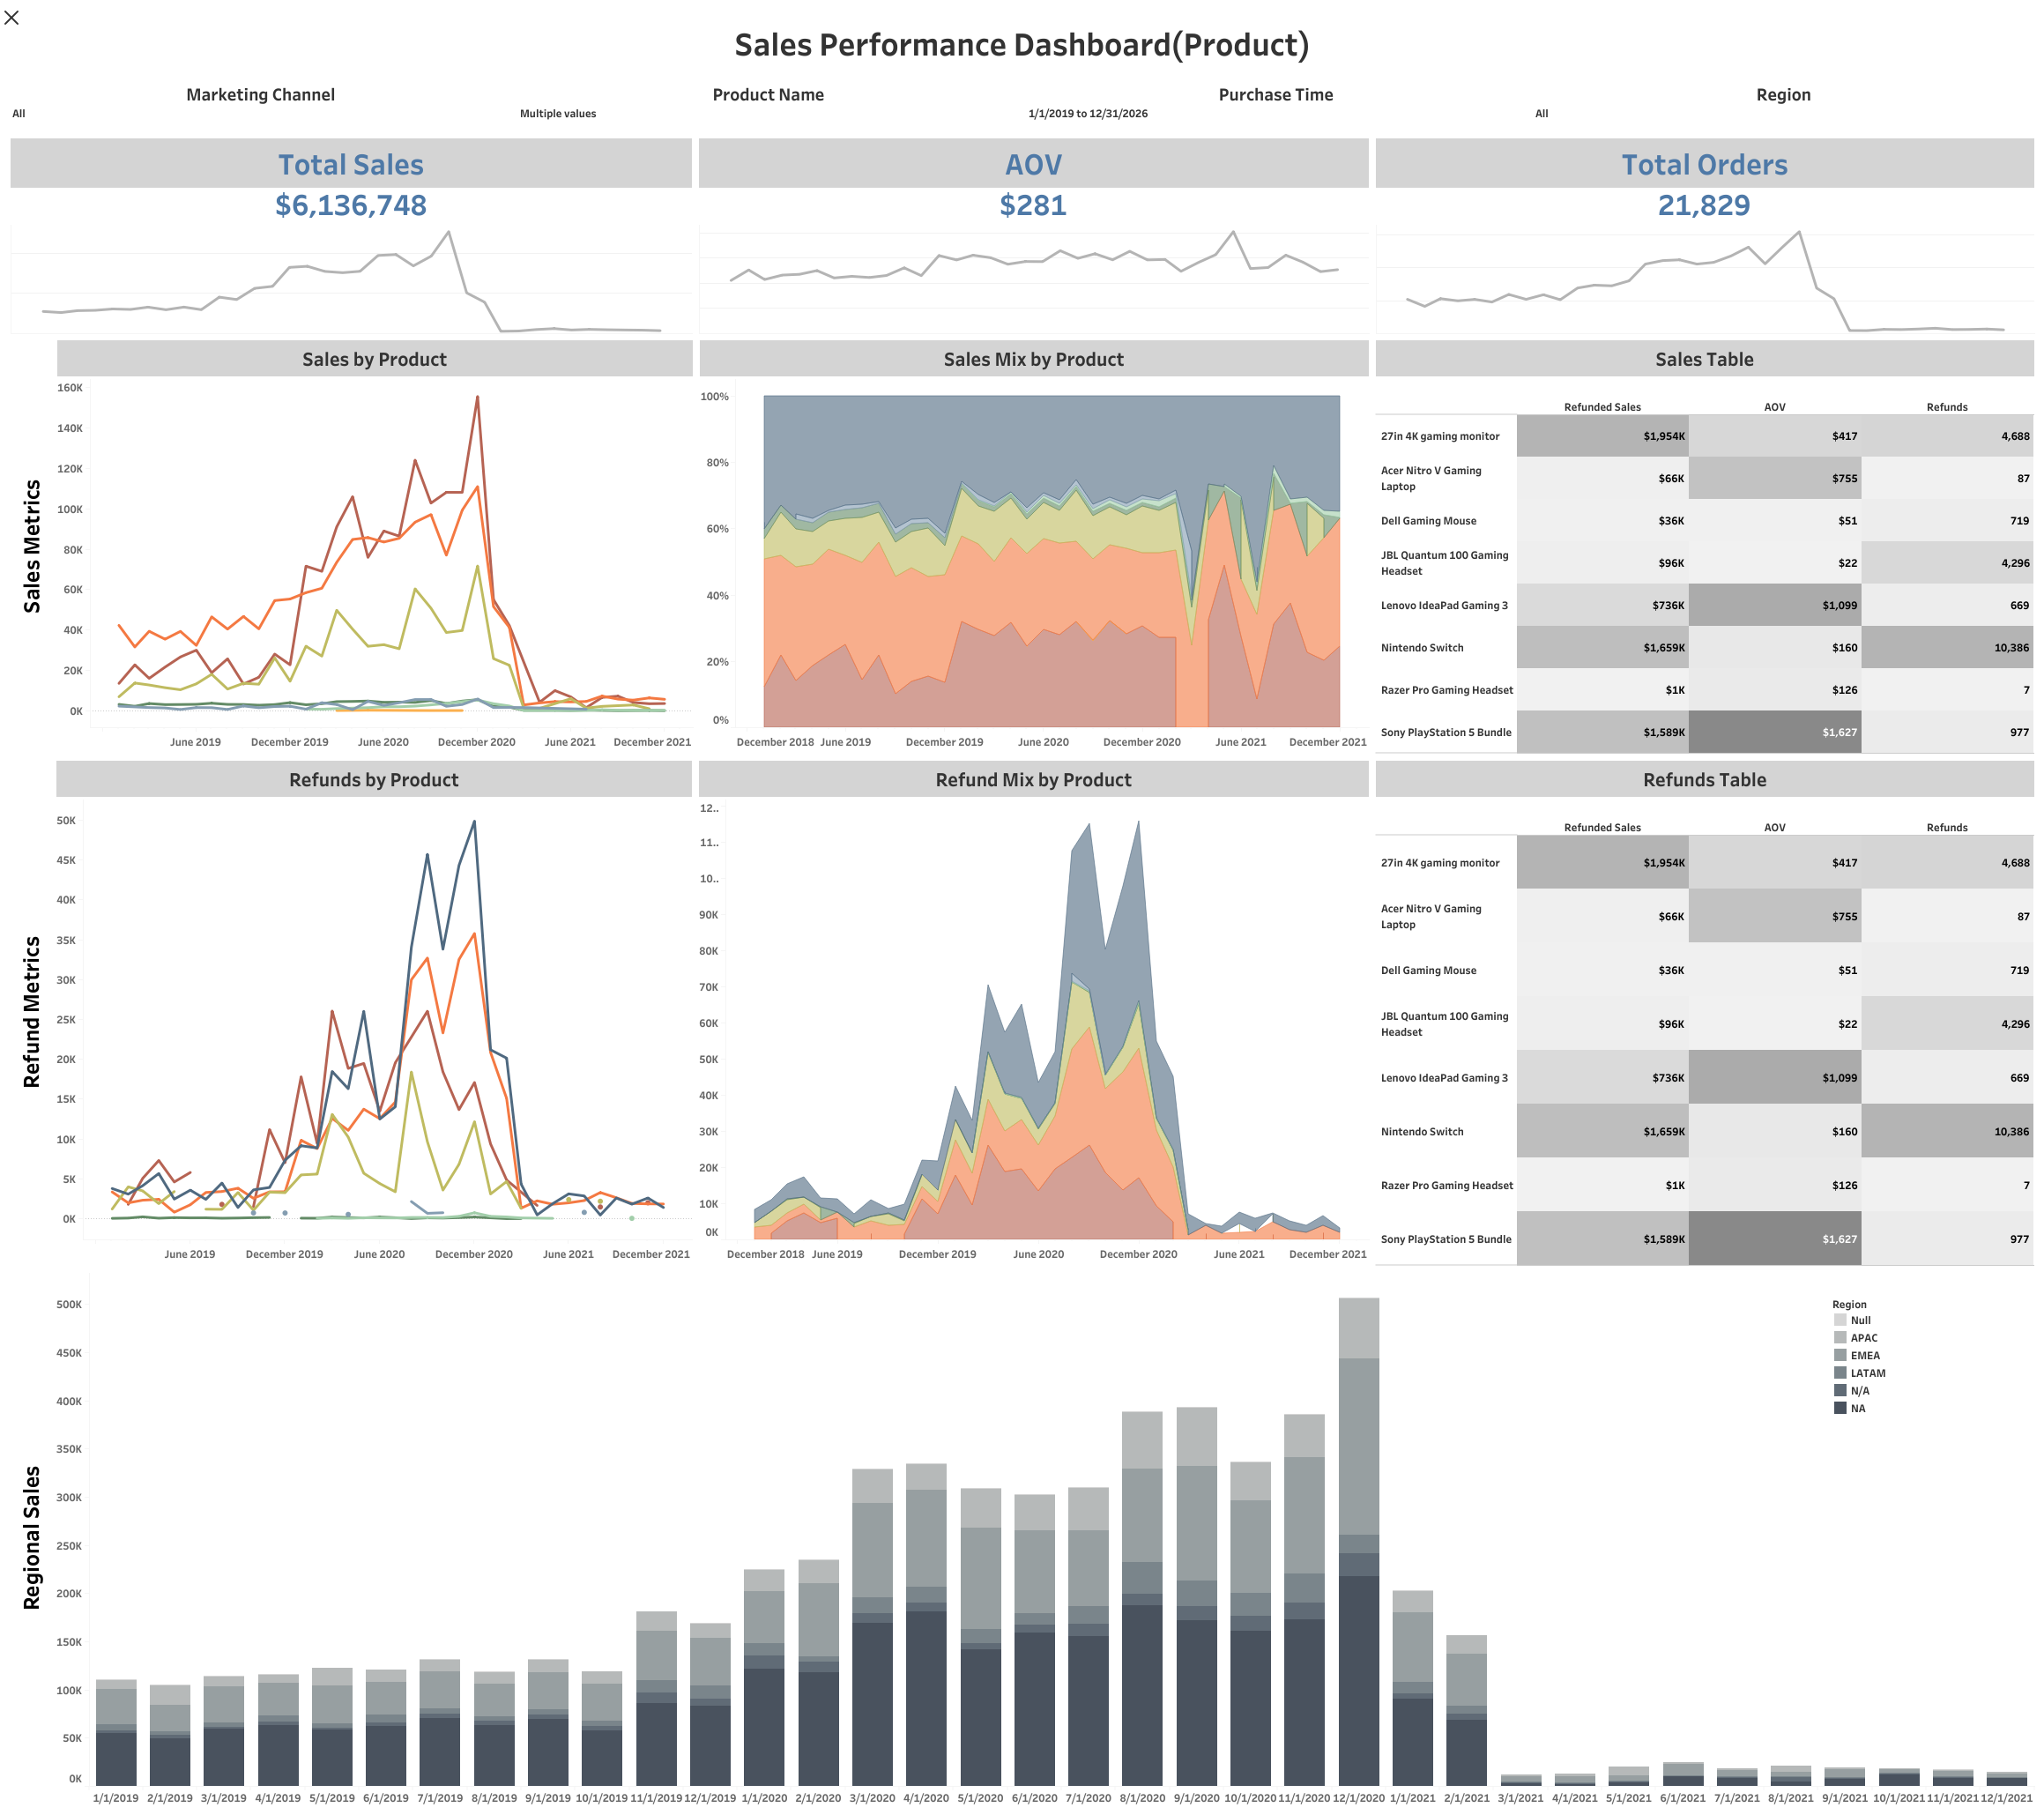

What the dashboard file says about the page in this screenshot:
{"tool":"tableau","page":{"name":"Dashboard 1","canvas":[1000,1000],"units":"permille","ordinal":0},"visuals":[{"type":"dashboard-object","box":[0.4,3.9,10.3,11.7]},{"type":"title","box":[3.4,3.9,993.2,38.8]},{"type":"filter","title":"Sales by Product","param":"[federated.131qbsd0yto8ju104g98j1mwnfte].[none:MARKETING_CHANNEL_CLEANED:nk]","box":[3.4,42.7,248.5,31.6]},{"type":"filter","title":"Sales by Product","param":"[federated.131qbsd0yto8ju104g98j1mwnfte].[none:PRODUCT_NAME_CLEANED:nk]","box":[251.9,42.7,248.5,31.6]},{"type":"filter","title":"Sales by Product","param":"[federated.131qbsd0yto8ju104g98j1mwnfte].[none:PURCHASE_TS_CLEANED:qk]","box":[500.4,42.7,248.1,31.6]},{"type":"filter","title":"Sales by Product","param":"[federated.131qbsd0yto8ju104g98j1mwnfte].[none:REGION:nk]","box":[748.5,42.7,248.1,31.6]},{"type":"worksheet","title":"Total Sales","mark":"Automatic","box":[3.4,74.3,336.8,47.6]},{"type":"worksheet","title":"AOV","mark":"Automatic","box":[340.2,74.3,330.9,47.6]},{"type":"worksheet","title":"Total Orders","mark":"Automatic","box":[671.2,74.3,325.4,47.6]},{"type":"worksheet","title":"Sales line","mark":"Automatic","rows":["USD_PRICE"],"cols":["PURCHASE_TS_CLEANED"],"box":[3.4,121.8,336.8,63.4]},{"type":"worksheet","title":"AOV line","mark":"Automatic","rows":["USD_PRICE"],"cols":["PURCHASE_TS_CLEANED"],"box":[340.2,121.8,330.9,63.4]},{"type":"worksheet","title":"Total Orders line","mark":"Automatic","rows":["orders!cleaned_5B5E275D6DFD4A4D8425866502C4DDB2"],"cols":["PURCHASE_TS_CLEANED"],"box":[671.2,121.8,325.4,63.4]},{"type":"text","box":[3.4,185.2,22.7,231.5]},{"type":"worksheet","title":"Sales by Product","mark":"Automatic","rows":["USD_PRICE"],"cols":["PURCHASE_TS"],"box":[26.1,185.2,314.3,231.5]},{"type":"worksheet","title":"Sales Mix by Product","mark":"Area","cols":["PURCHASE_TS"],"box":[340.4,185.2,330.8,231.5]},{"type":"worksheet","title":"Sales Table","mark":"Square","rows":["PRODUCT_NAME_CLEANED"],"box":[671.2,185.2,325.4,231.5]},{"type":"text","box":[3.4,416.8,22.6,282.5]},{"type":"worksheet","title":"Refunds by Product","mark":"Automatic","rows":["REFUND_PRICE"],"cols":["PURCHASE_TS"],"box":[26,416.8,314.2,282.5]},{"type":"worksheet","title":"Refund Mix by Product","mark":"Area","rows":["REFUND_PRICE"],"cols":["PURCHASE_TS"],"box":[340.2,416.8,330.9,282.5]},{"type":"worksheet","title":"Refunds Table","mark":"Square","rows":["PRODUCT_NAME_CLEANED"],"box":[671.2,416.8,325.4,282.5]},{"type":"text","box":[3.4,699.2,22.6,296.9]},{"type":"worksheet","title":"Sheet 18","mark":"Bar","rows":["USD_PRICE"],"cols":["PURCHASE_TS_CLEANED"],"box":[26,699.2,970.6,296.9]},{"type":"legend","title":"Sheet 18","param":"[federated.131qbsd0yto8ju104g98j1mwnfte].[none:REGION:nk]","box":[895.8,712.6,60,67]}]}

Visuals, with their boxes on the dashboard's canvas, which has no fixed pixel size, in thousandths of its width and height (x1, y1, x2, y2). These are canvas units, not pixel positions in the 2044x1815 screenshot, which may show the page scaled, cropped or inside an application window:
dashboard-object: detection(0, 4, 11, 16)
title: detection(3, 4, 997, 43)
"Sales by Product" filter: detection(3, 43, 252, 74)
"Sales by Product" filter: detection(252, 43, 500, 74)
"Sales by Product" filter: detection(500, 43, 748, 74)
"Sales by Product" filter: detection(748, 43, 997, 74)
"Total Sales" worksheet: detection(3, 74, 340, 122)
"AOV" worksheet: detection(340, 74, 671, 122)
"Total Orders" worksheet: detection(671, 74, 997, 122)
"Sales line" worksheet: detection(3, 122, 340, 185)
"AOV line" worksheet: detection(340, 122, 671, 185)
"Total Orders line" worksheet: detection(671, 122, 997, 185)
text: detection(3, 185, 26, 417)
"Sales by Product" worksheet: detection(26, 185, 340, 417)
"Sales Mix by Product" worksheet (Area marks): detection(340, 185, 671, 417)
"Sales Table" worksheet (Square marks): detection(671, 185, 997, 417)
text: detection(3, 417, 26, 699)
"Refunds by Product" worksheet: detection(26, 417, 340, 699)
"Refund Mix by Product" worksheet (Area marks): detection(340, 417, 671, 699)
"Refunds Table" worksheet (Square marks): detection(671, 417, 997, 699)
text: detection(3, 699, 26, 996)
"Sheet 18" worksheet (Bar marks): detection(26, 699, 997, 996)
"Sheet 18" legend: detection(896, 713, 956, 780)
